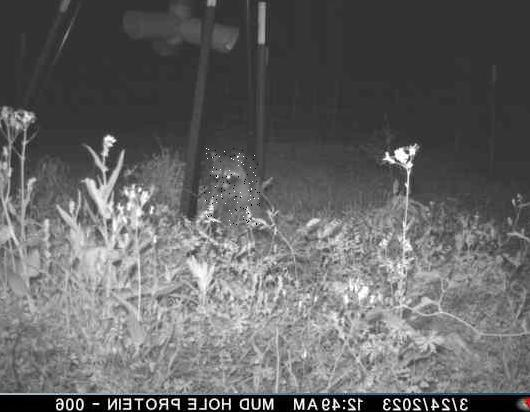Raccoon: (204, 148, 260, 225)
